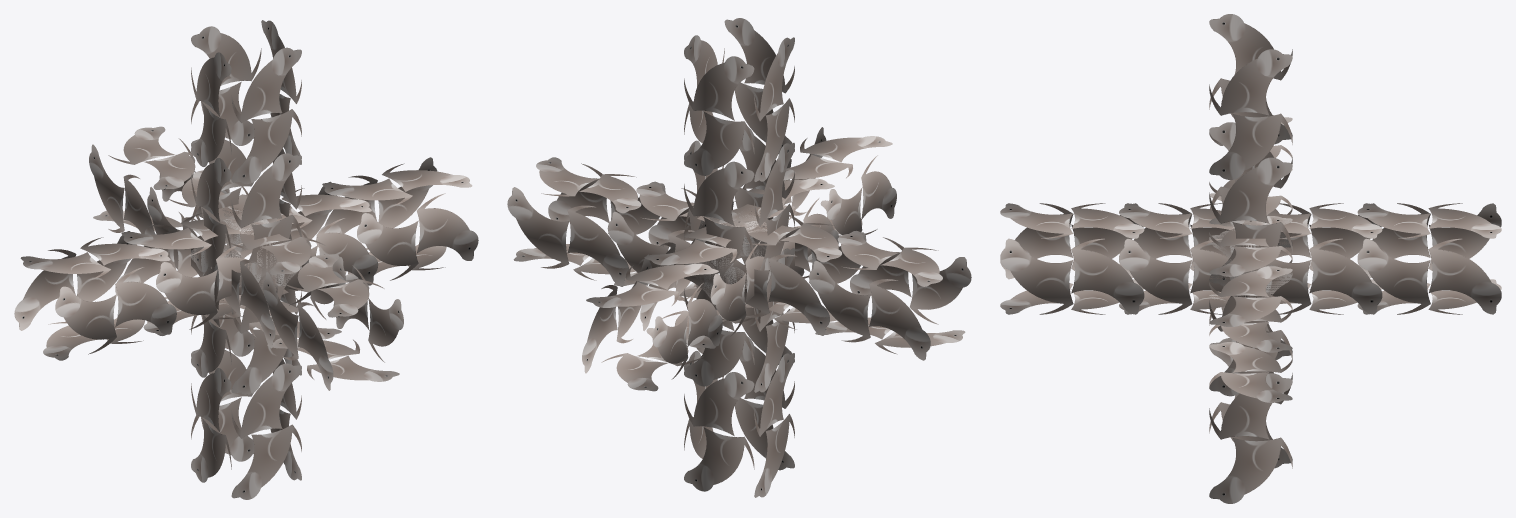
File: Tetrahemihexacron29.gltf
3 views of the same model, side by side, from view 1: azimuth 30°, elevation 25°; view 2: azimuth 150°, elevation 25°; view 3: azimuth 270°, elevation 25° (orthographic). The views are drawn at different scales.
Visible parts, largest first — view 1: Tetrahemihexacron1; view 2: Tetrahemihexacron1; view 3: Tetrahemihexacron1.
Boxes of the visible parts, box(x1,y1,x2,y2) form: Tetrahemihexacron1: box(14, 20, 478, 499); Tetrahemihexacron1: box(507, 18, 971, 497); Tetrahemihexacron1: box(1000, 14, 1501, 503).
Size of the model in its own units: 6 by 6 by 6.
1 material, 1 textured.
